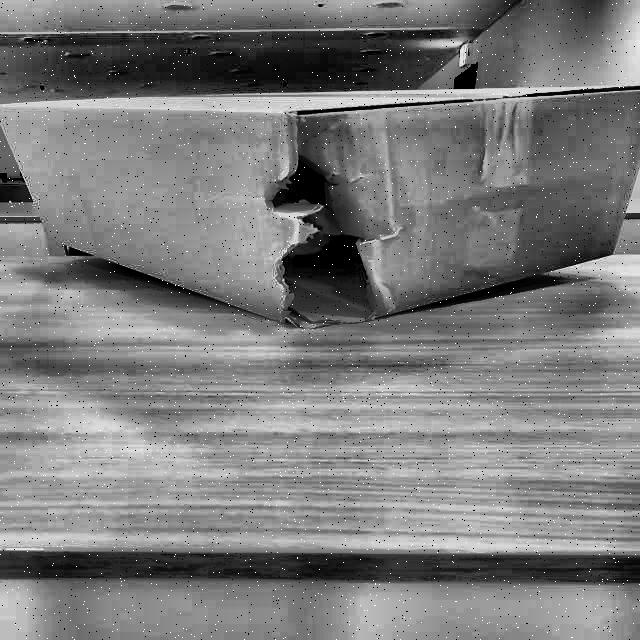box: (0, 81, 639, 345)
hole: (252, 154, 392, 330)
